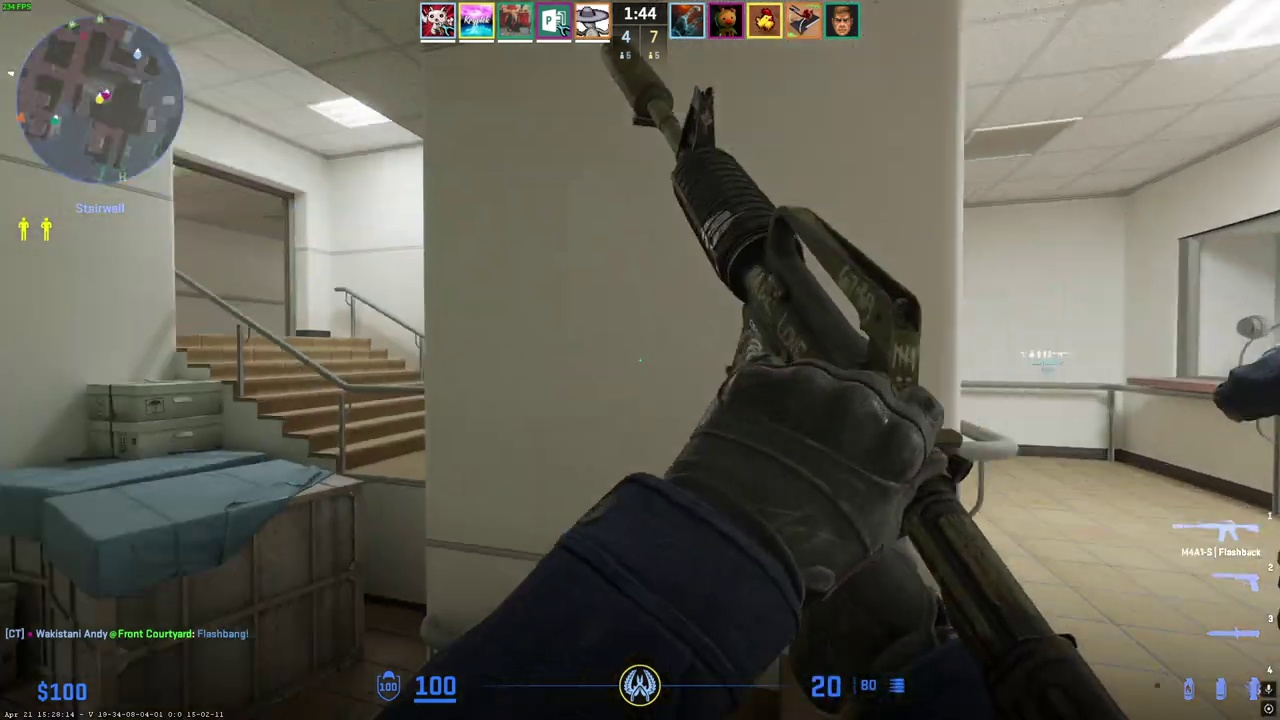CT: (1241, 268, 1280, 664)
